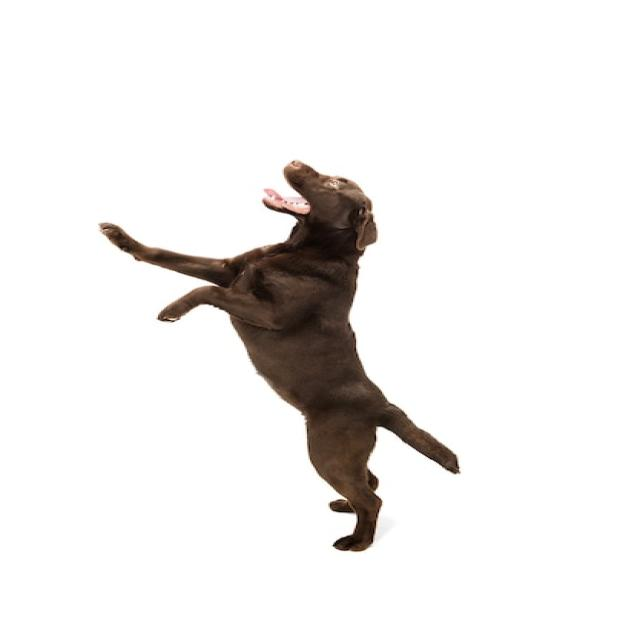Dog: (100, 158, 458, 554)
